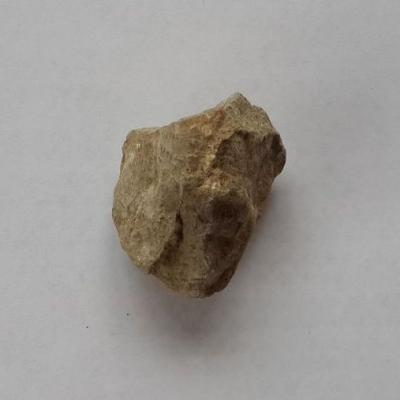natural_science_collection: (110, 93, 287, 300)
